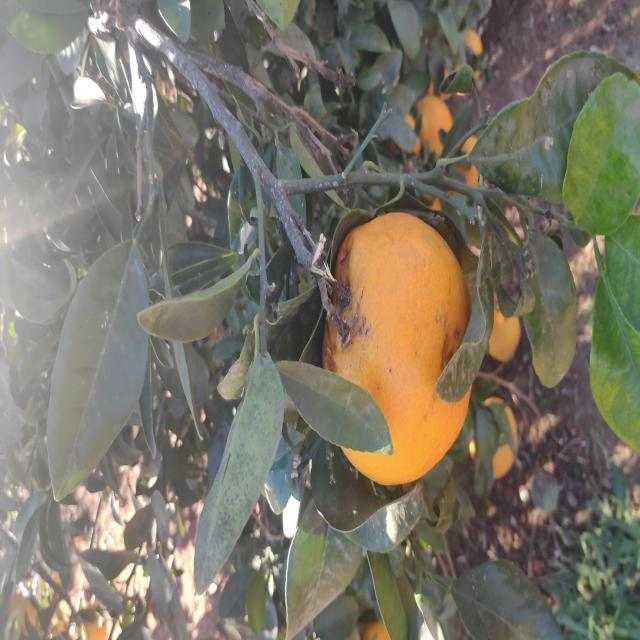Jeruk Sudah Matang: (326, 212, 474, 486), (478, 399, 518, 478), (414, 99, 452, 160), (488, 303, 522, 363), (458, 134, 480, 184), (468, 31, 481, 89)
